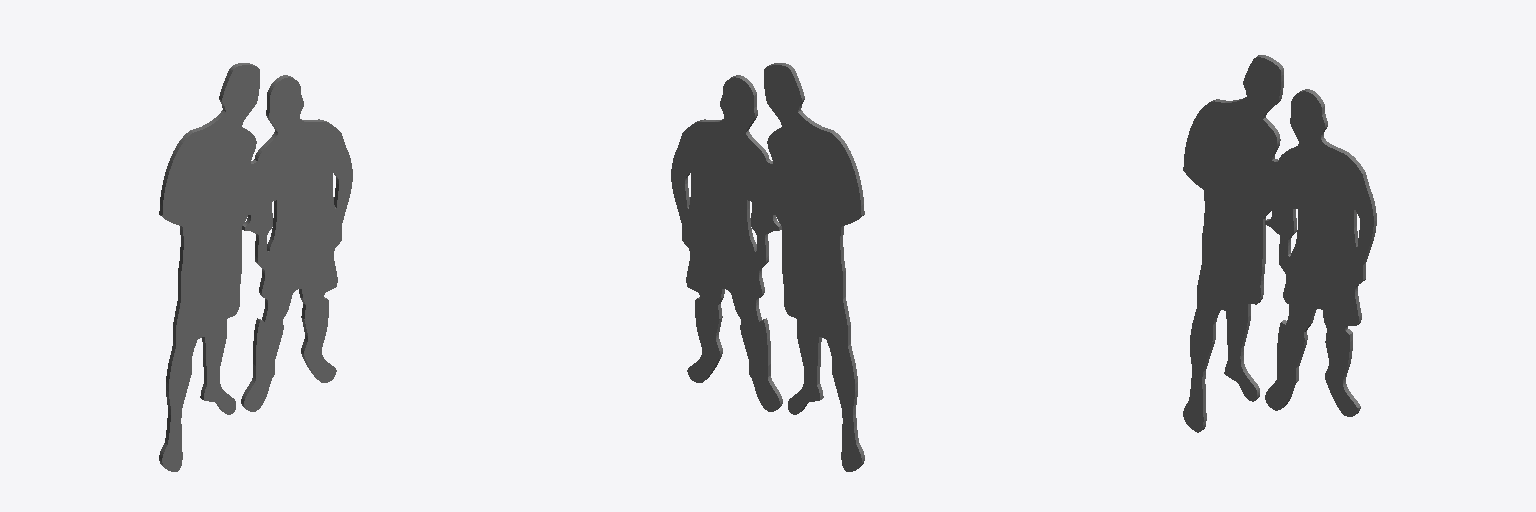
The model's file is fish-2.obj.
3 renders of one model, left to right at view 1: azimuth 30°, elevation 25°; view 2: azimuth 150°, elevation 25°; view 3: azimuth 330°, elevation 25°, orthographic.
Visible parts, largest first — view 1: Layer 1; view 2: Layer 1; view 3: Layer 1.
Boxes of the visible parts, <box> form: Layer 1: <box>159,63,352,471</box>; Layer 1: <box>671,63,864,471</box>; Layer 1: <box>1183,55,1376,432</box>.
Size of the model in its own units: 89.38 by 175 by 2.5.